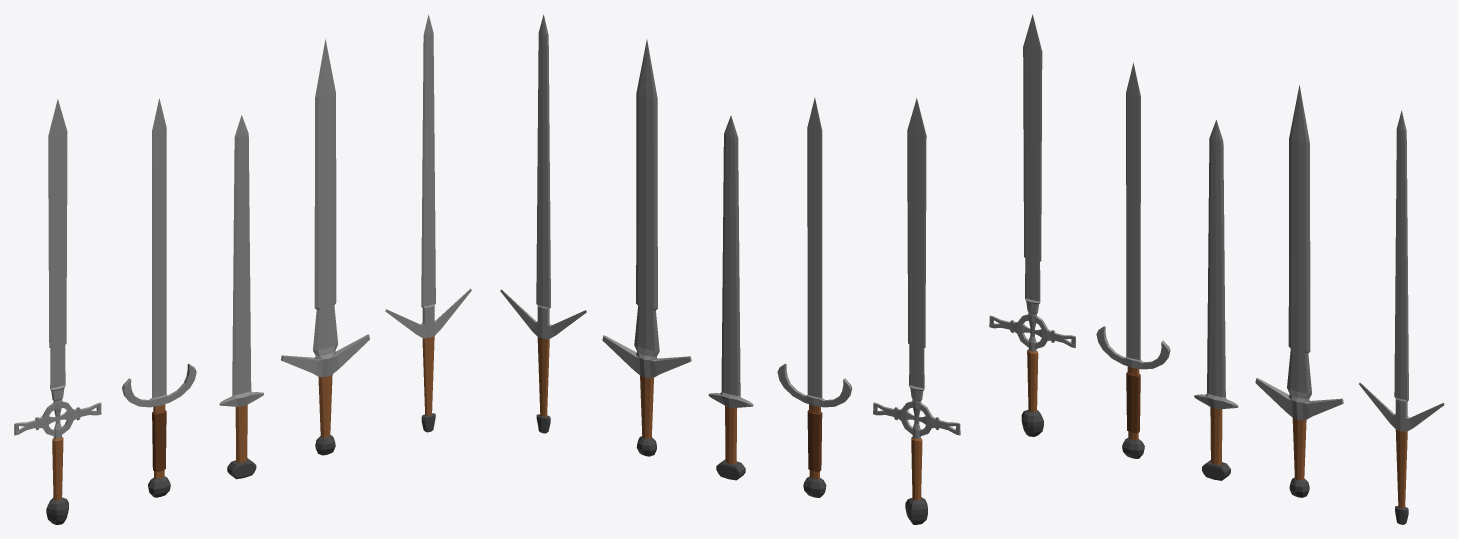
The model's file is Low Poly Swords Asset.fbx.
The picture shows the model from 3 angles, left to right: view 1: azimuth 30°, elevation 25°; view 2: azimuth 150°, elevation 25°; view 3: azimuth 330°, elevation 25°; orthographic projection.
Visible parts, largest first — view 1: Sword 4, Sword 1, Sword 2, Sword 3, Sword 5; view 2: Sword 4, Sword 1, Sword 2, Sword 3, Sword 5; view 3: Sword 4, Sword 1, Sword 2, Sword 3, Sword 5.
Boxes of the visible parts, box(x1,y1,x2,y2) form: Sword 4: box(281, 39, 369, 455); Sword 1: box(14, 99, 101, 524); Sword 2: box(122, 98, 196, 497); Sword 3: box(219, 115, 263, 479); Sword 5: box(385, 14, 471, 432); Sword 4: box(602, 39, 691, 456); Sword 1: box(873, 98, 960, 524); Sword 2: box(777, 97, 852, 497); Sword 3: box(708, 115, 753, 480); Sword 5: box(500, 14, 586, 433); Sword 4: box(1255, 85, 1343, 497); Sword 1: box(989, 14, 1075, 436); Sword 2: box(1096, 62, 1170, 458); Sword 3: box(1194, 120, 1238, 480); Sword 5: box(1359, 110, 1444, 524).
Size of the model in its own units: 1000 by 885 by 41.82.
